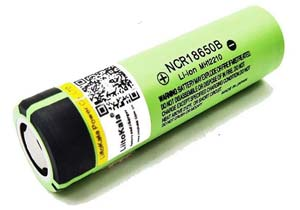Battery: (10, 3, 288, 196)
